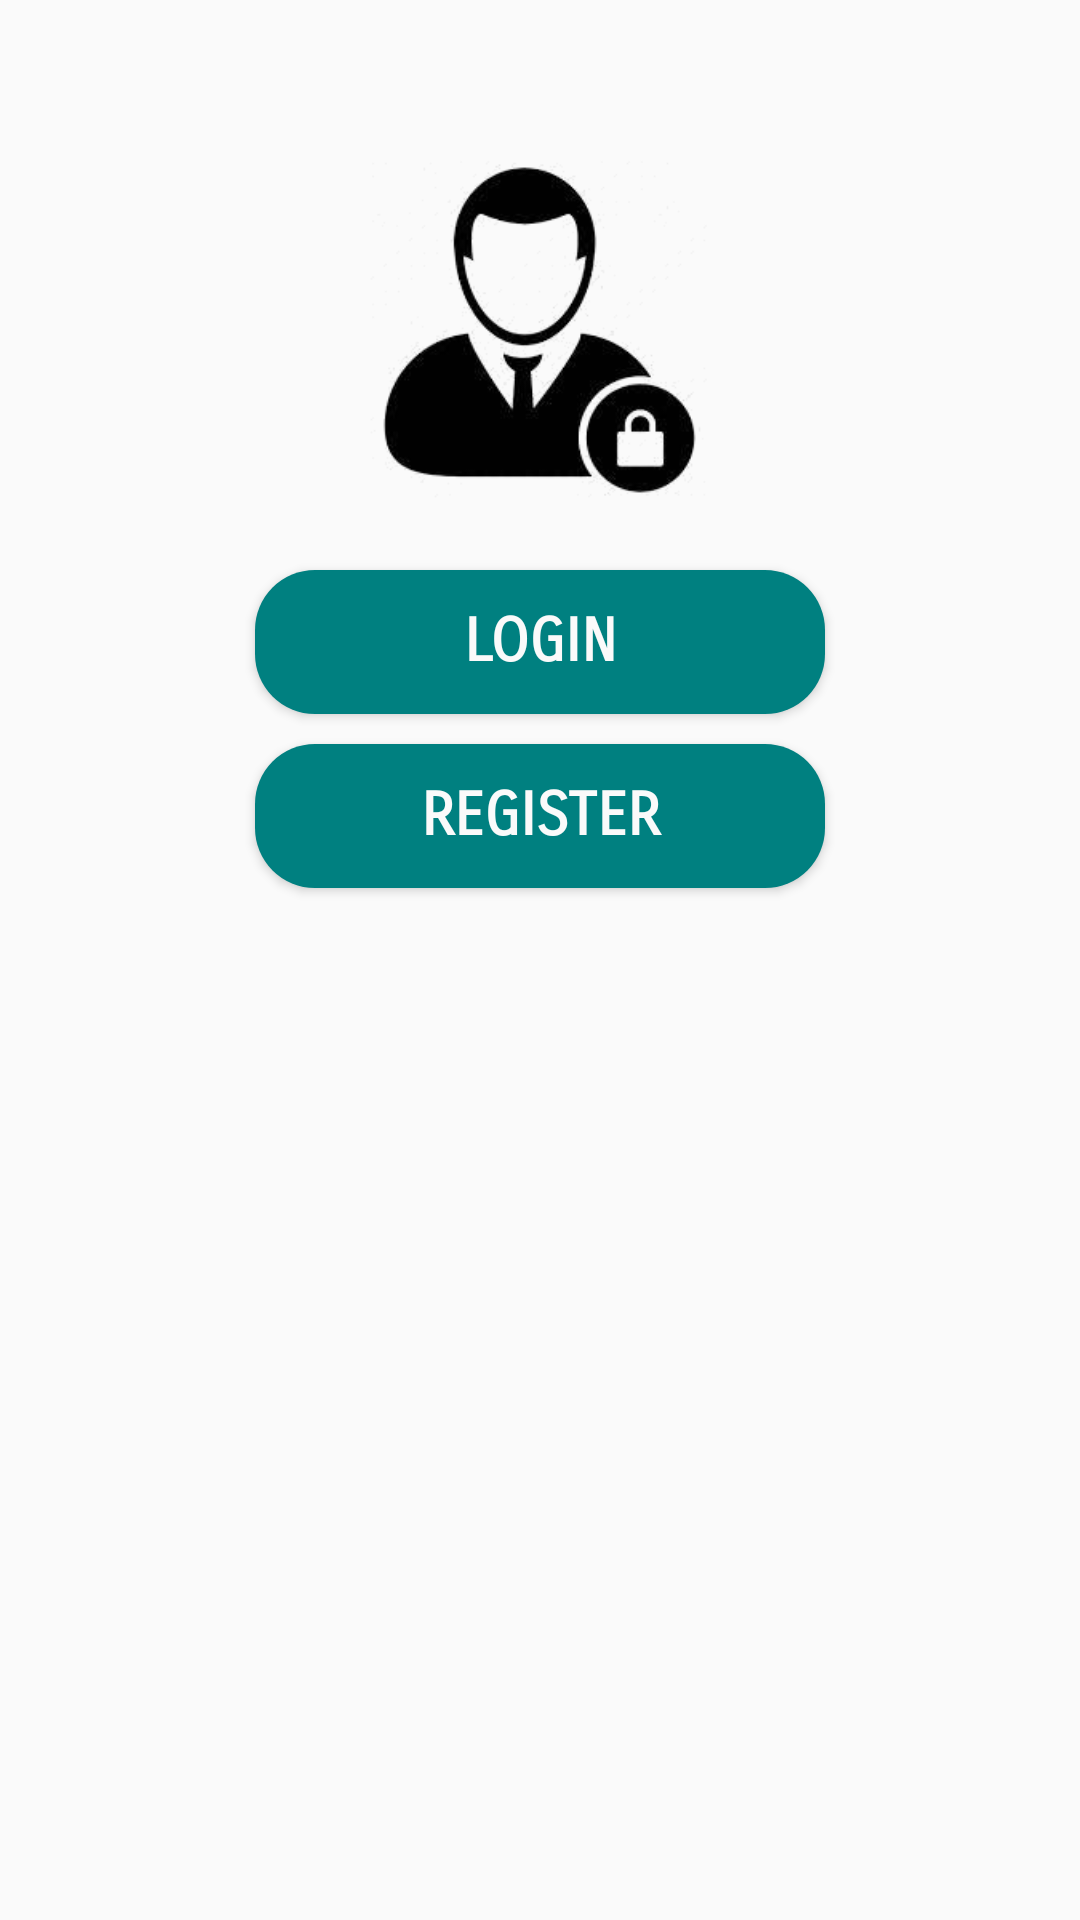

Screen size 1080 x 1920. Icon name, then its center in pixels as [x,y]:
contact: [539,330]
